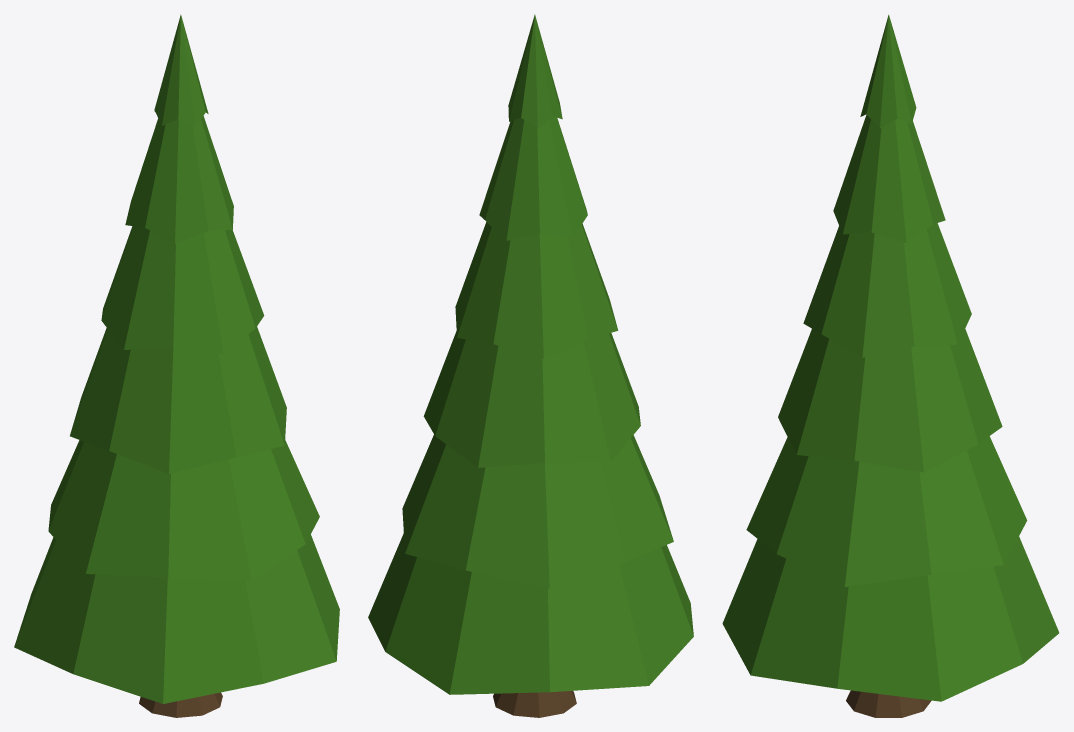
The model's file is LeSapin.glb.
The picture shows the model from 3 angles, left to right: view 1: azimuth 30°, elevation 25°; view 2: azimuth 150°, elevation 25°; view 3: azimuth 270°, elevation 25°; orthographic projection.
Parts seen in each view (by area): view 1: Cylinder; view 2: Cylinder; view 3: Cylinder.
Part boxes in pixels (x1,y1,x2,y2): Cylinder: (14, 14, 339, 717); Cylinder: (368, 14, 693, 717); Cylinder: (722, 14, 1059, 717).
Size of the model in its own units: 3.8 by 8.87 by 3.95.
